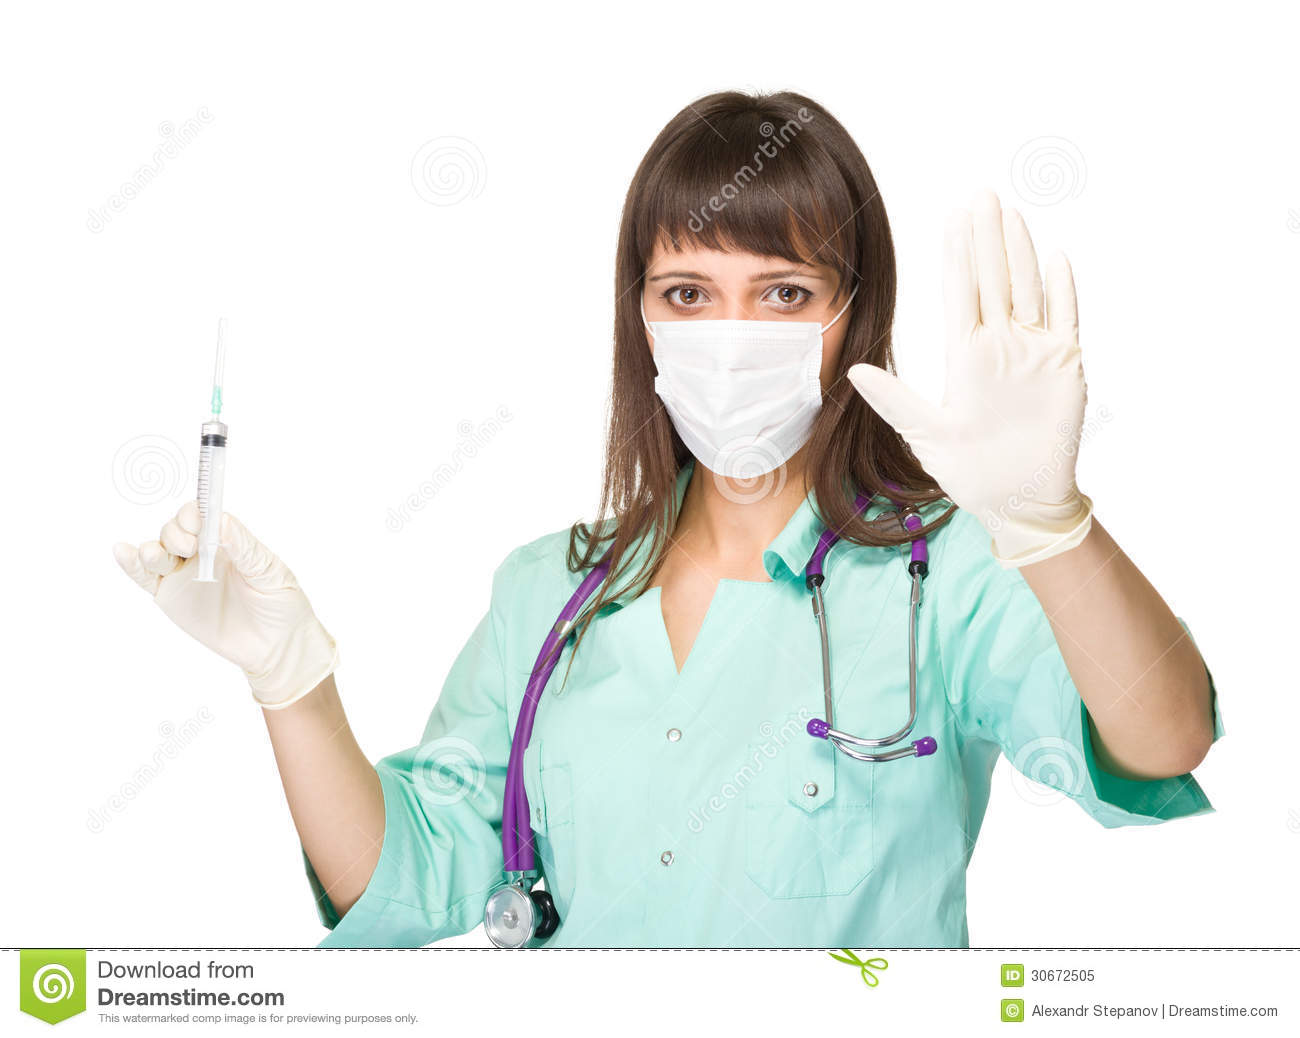mask: (646, 318, 821, 487)
